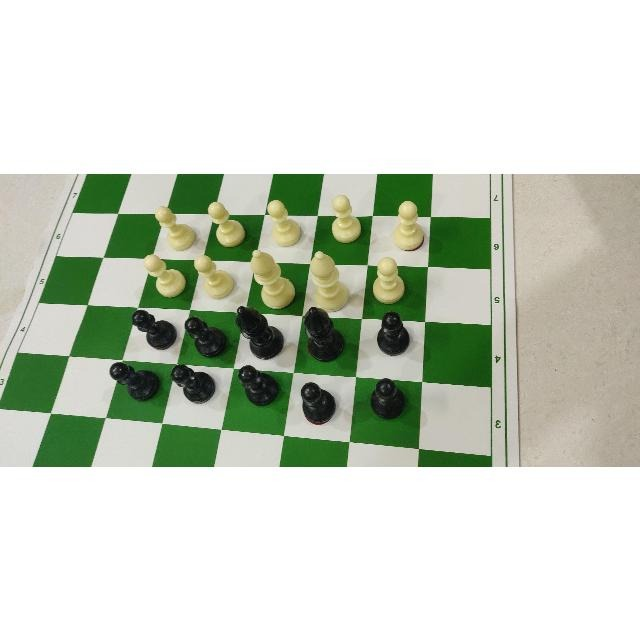black-bishop: (235, 305, 284, 359), (304, 305, 345, 361)
black-pawn: (180, 314, 224, 357), (108, 360, 154, 401), (234, 364, 278, 404), (171, 363, 211, 403), (132, 308, 171, 347), (298, 379, 330, 426), (372, 376, 405, 420), (379, 309, 410, 355)
white-bishop: (250, 249, 294, 307), (310, 250, 348, 311)
white-pawn: (141, 251, 186, 297), (193, 253, 235, 301), (154, 203, 196, 251), (208, 198, 244, 250), (328, 192, 361, 244), (265, 196, 300, 244), (371, 256, 402, 304), (393, 198, 421, 251)
